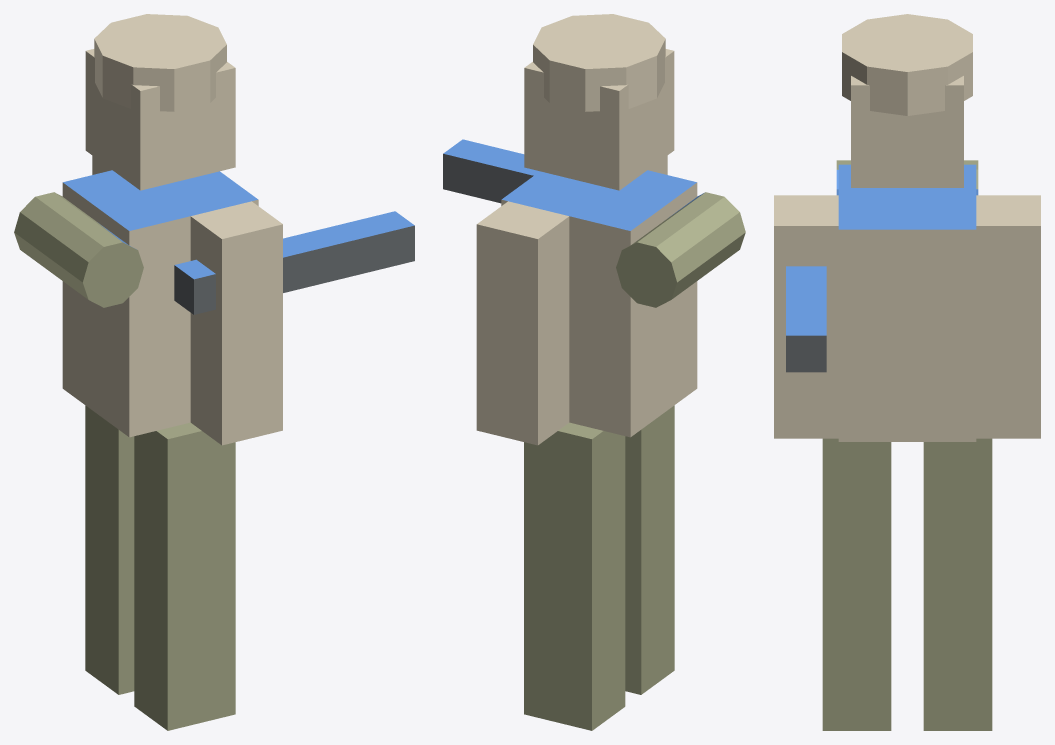
The model's file is meridian_rifleman.glb.
3 renders of one model, left to right at view 1: azimuth 30°, elevation 25°; view 2: azimuth 150°, elevation 25°; view 3: azimuth 270°, elevation 25°, orthographic. The views are drawn at different scales.
Parts seen in each view (by area): view 1: torso, leg_r, arm_r, head, leg_l; view 2: torso, leg_l, head, arm_l, leg_r, arm_r; view 3: torso, head, leg_l, leg_r, arm_l, arm_r.
Boxes of the visible parts, box(x1,y1,x2,y2) form: torso: box(14, 170, 258, 437); leg_r: box(134, 422, 235, 730); arm_r: box(174, 201, 414, 445); head: box(85, 14, 235, 190); leg_l: box(85, 405, 134, 694); torso: box(501, 170, 745, 437); leg_l: box(524, 422, 625, 730); head: box(524, 14, 674, 190); arm_l: box(476, 201, 569, 445); leg_r: box(625, 405, 674, 694); arm_r: box(443, 139, 667, 203); torso: box(836, 160, 978, 441); head: box(842, 14, 972, 187); leg_l: box(923, 438, 992, 730); leg_r: box(822, 438, 891, 730); arm_l: box(976, 195, 1040, 438); arm_r: box(774, 195, 838, 438).
Bounding box in the file's own units: 0.905 × 1.83 × 0.66.
